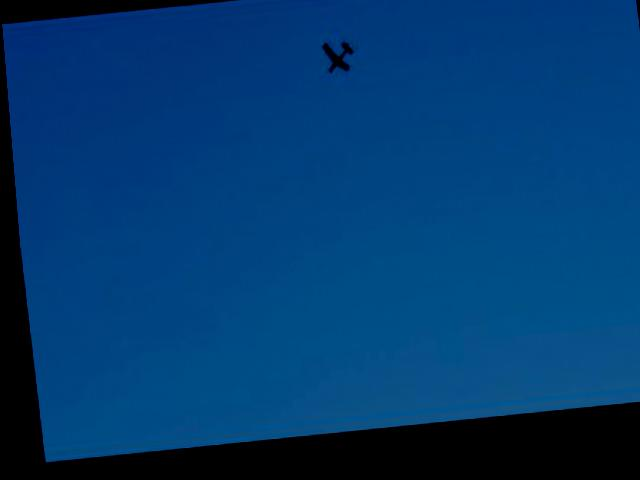uav: (319, 40, 354, 78)
